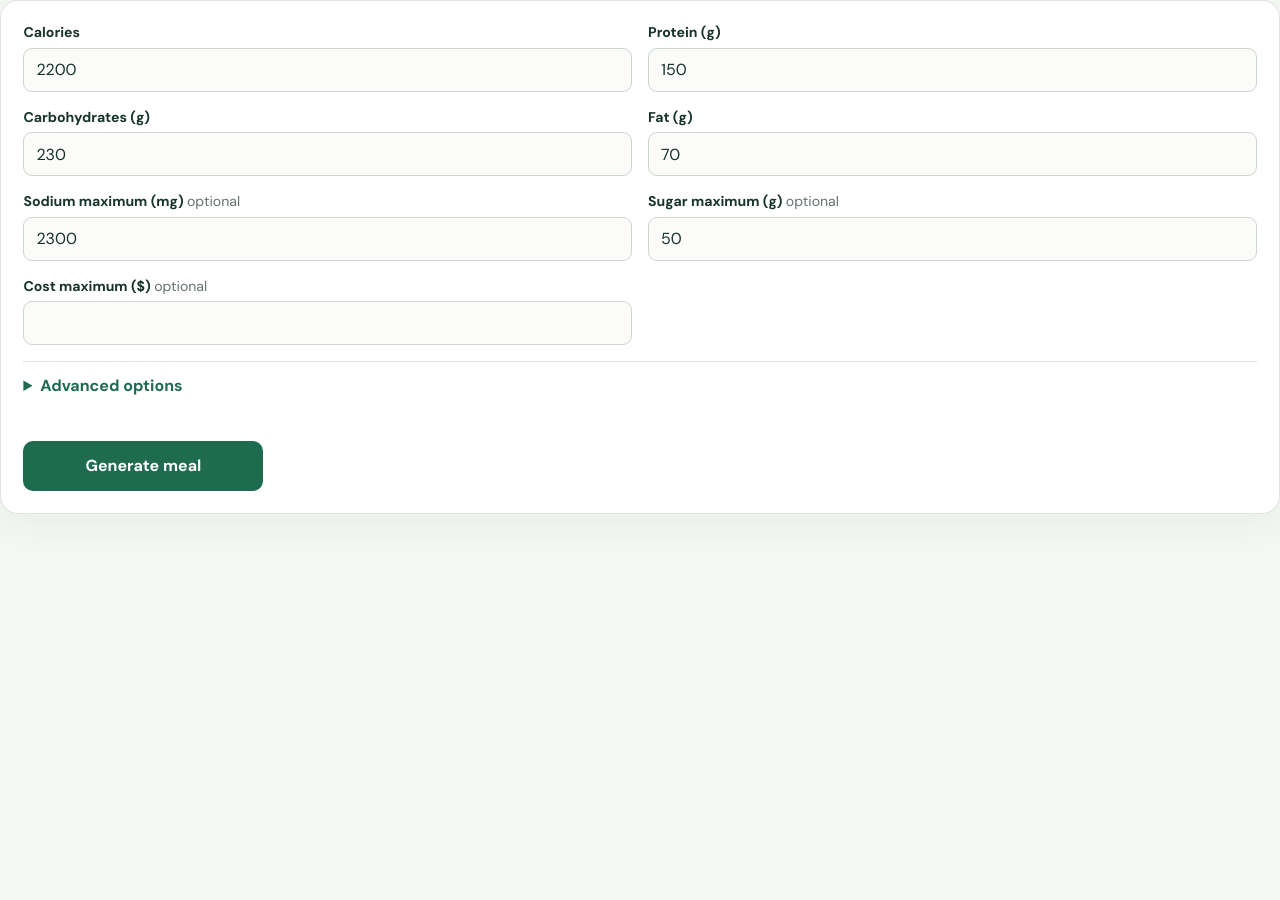
Test: meal generation UI › validates the solver time limit
Click the heading "Advanced options".
click(111, 385)  # box [40,375,182,396]
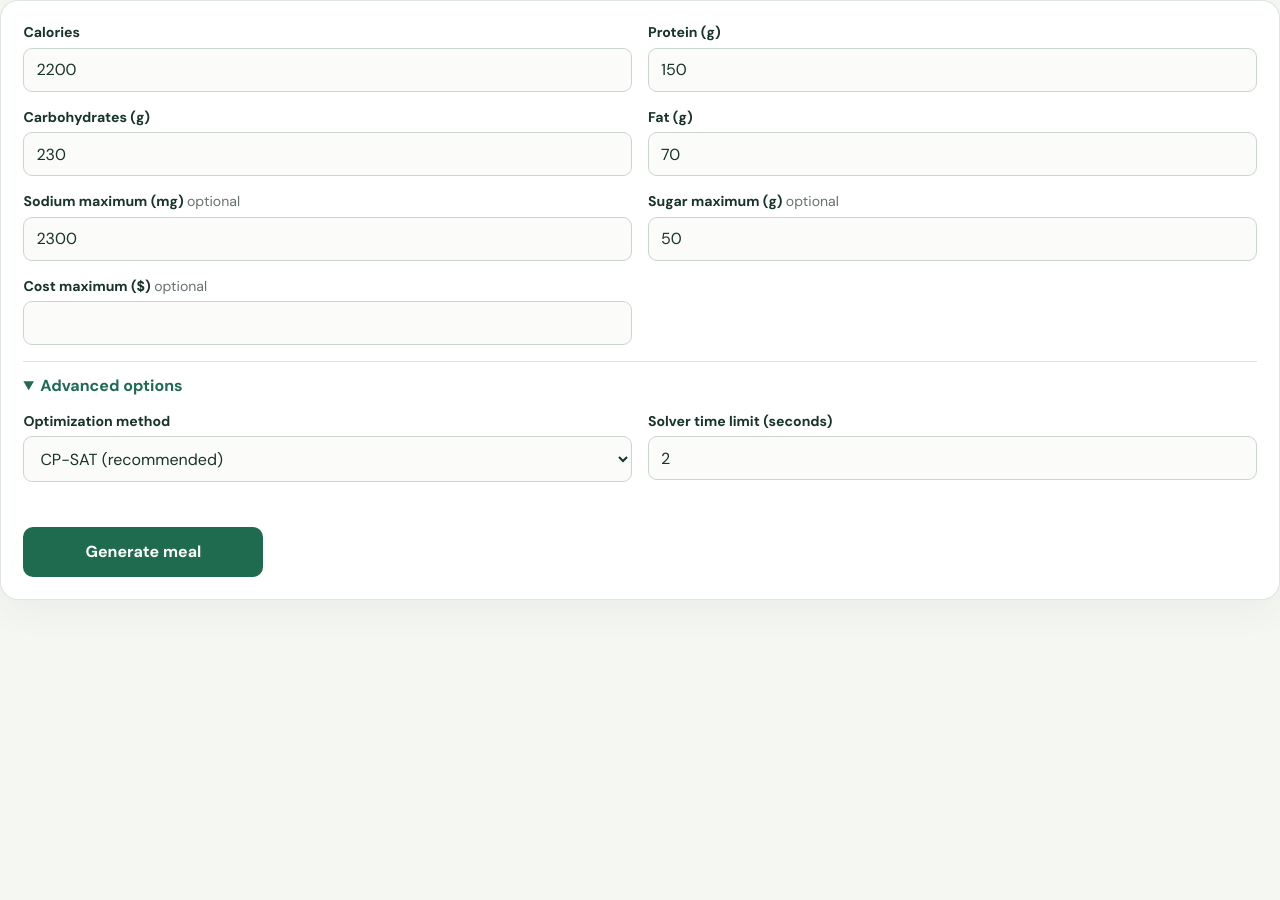
Replace the text in the number field labelled "Solver time limit (seconds)" with "20" at (952, 458), box [648,436,1257,480]
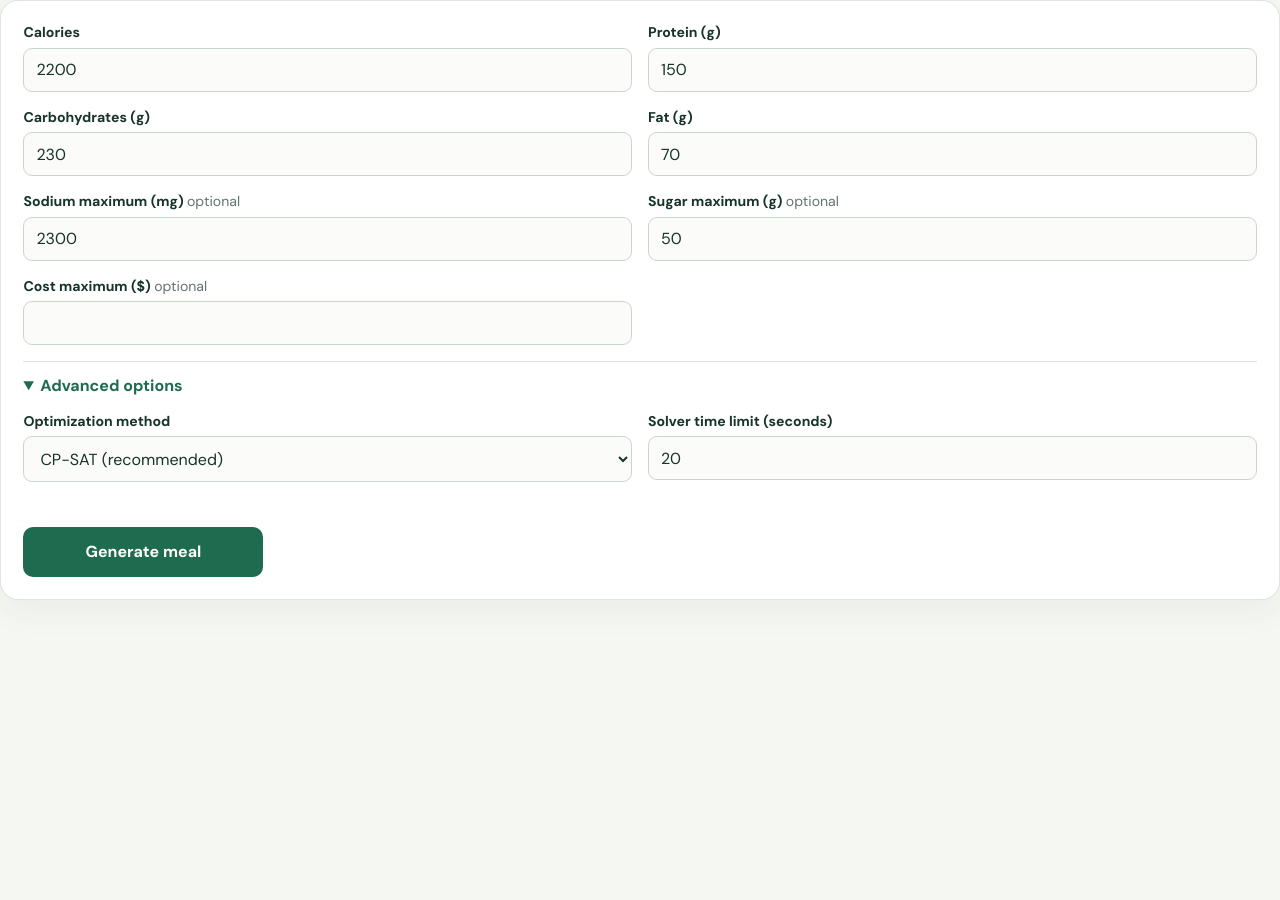
Click the button "Generate meal".
click(143, 552)  # box [23,527,263,577]
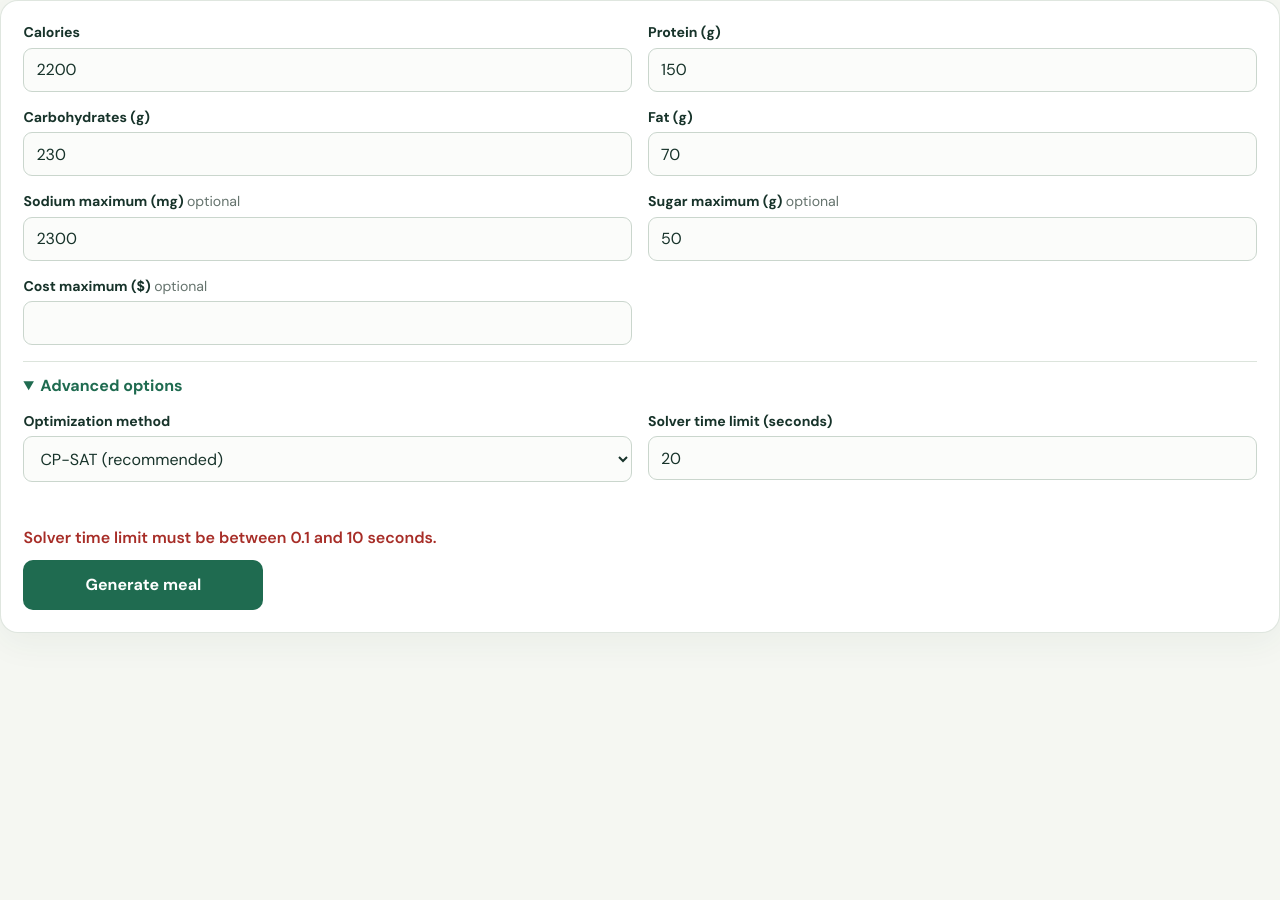
Now the message shows "between 0.1 and 10", box [23,527,437,548]
